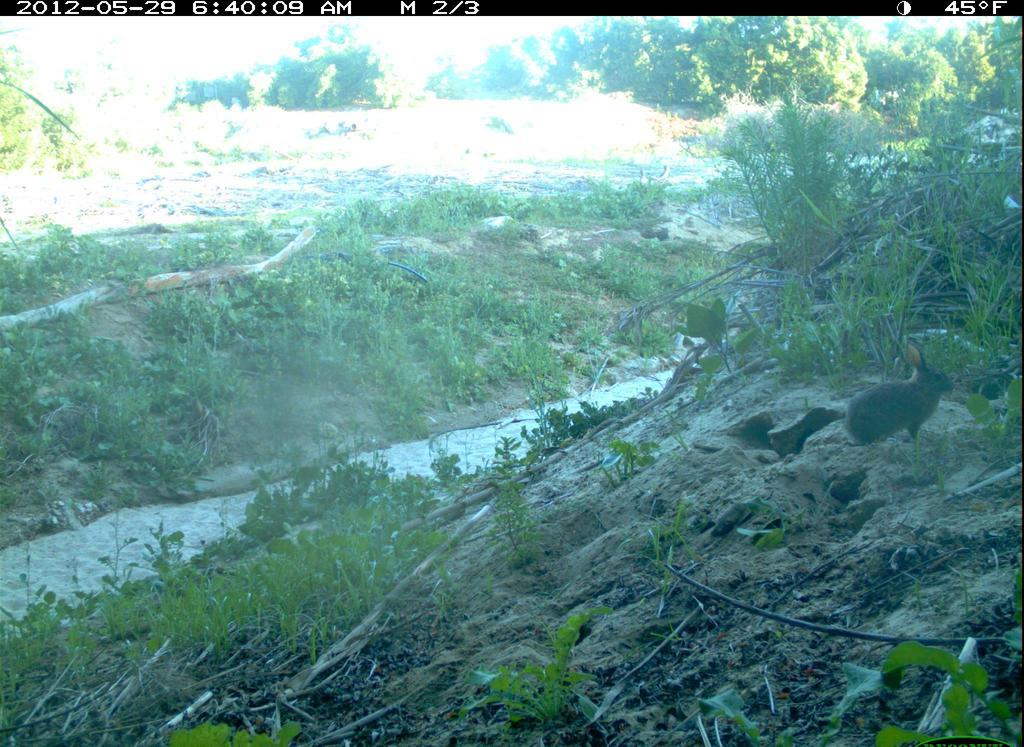rabbit: (834, 332, 962, 464)
